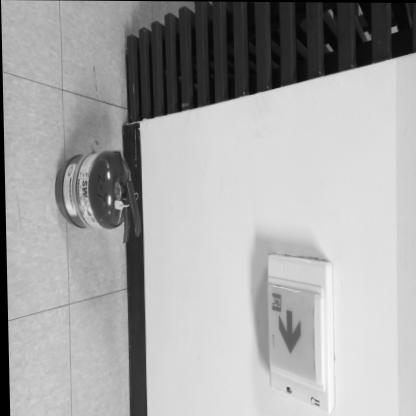FE: (53, 152, 138, 241)
